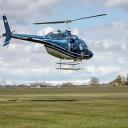helicopter: (1, 12, 109, 72)
